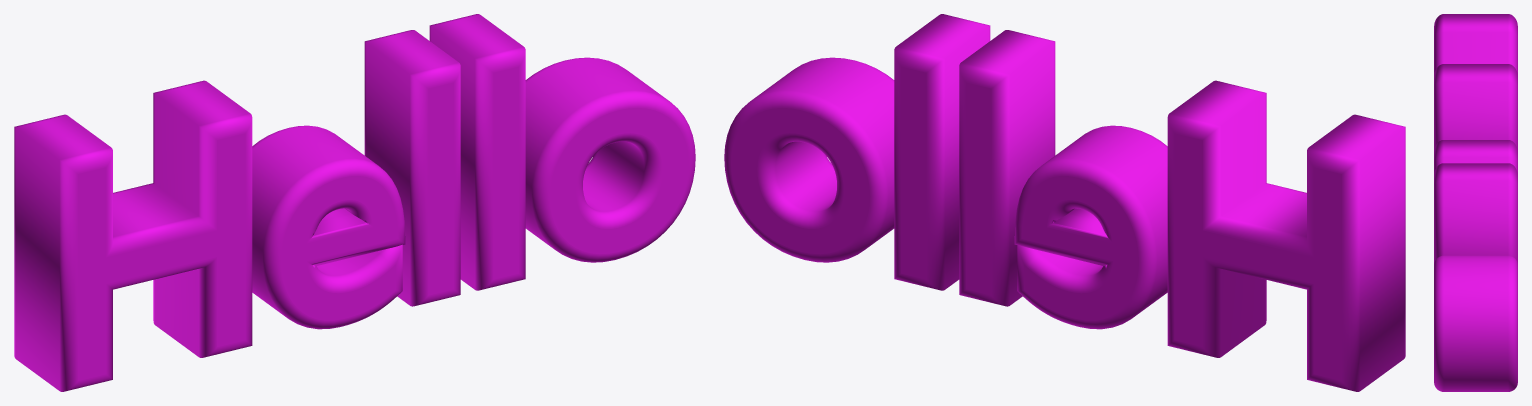
The model's file is Hello.glb.
3 renders of one model, left to right at view 1: azimuth 30°, elevation 25°; view 2: azimuth 150°, elevation 25°; view 3: azimuth 270°, elevation 25°, orthographic. The views are drawn at different scales.
Parts seen in each view (by area): view 1: Text; view 2: Text; view 3: Text.
Boxes of the visible parts, x1,y1,x2,y2 form: Text: [14, 14, 695, 391]; Text: [724, 14, 1405, 391]; Text: [1434, 14, 1517, 391].
Size of the model in its own units: 2.19 by 0.7711 by 0.34.
